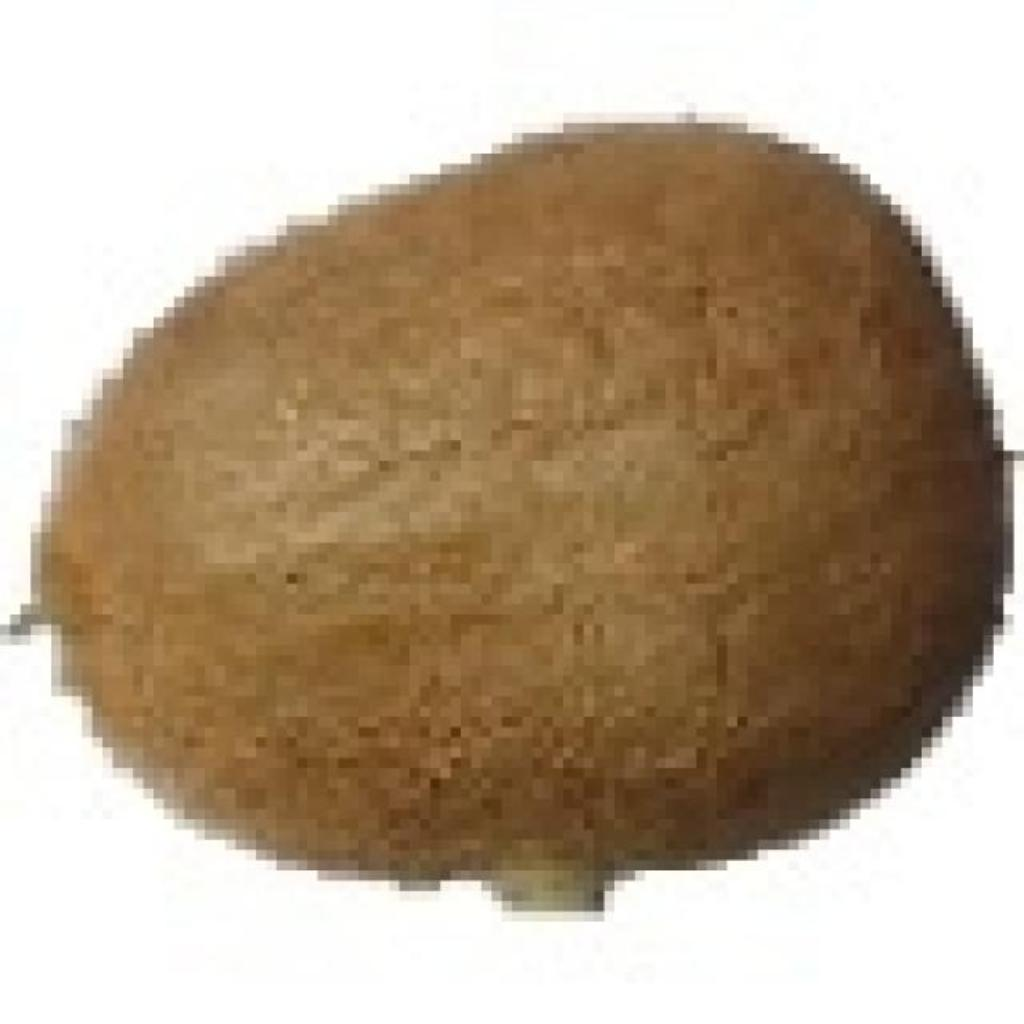kiwi: (31, 113, 983, 891)
